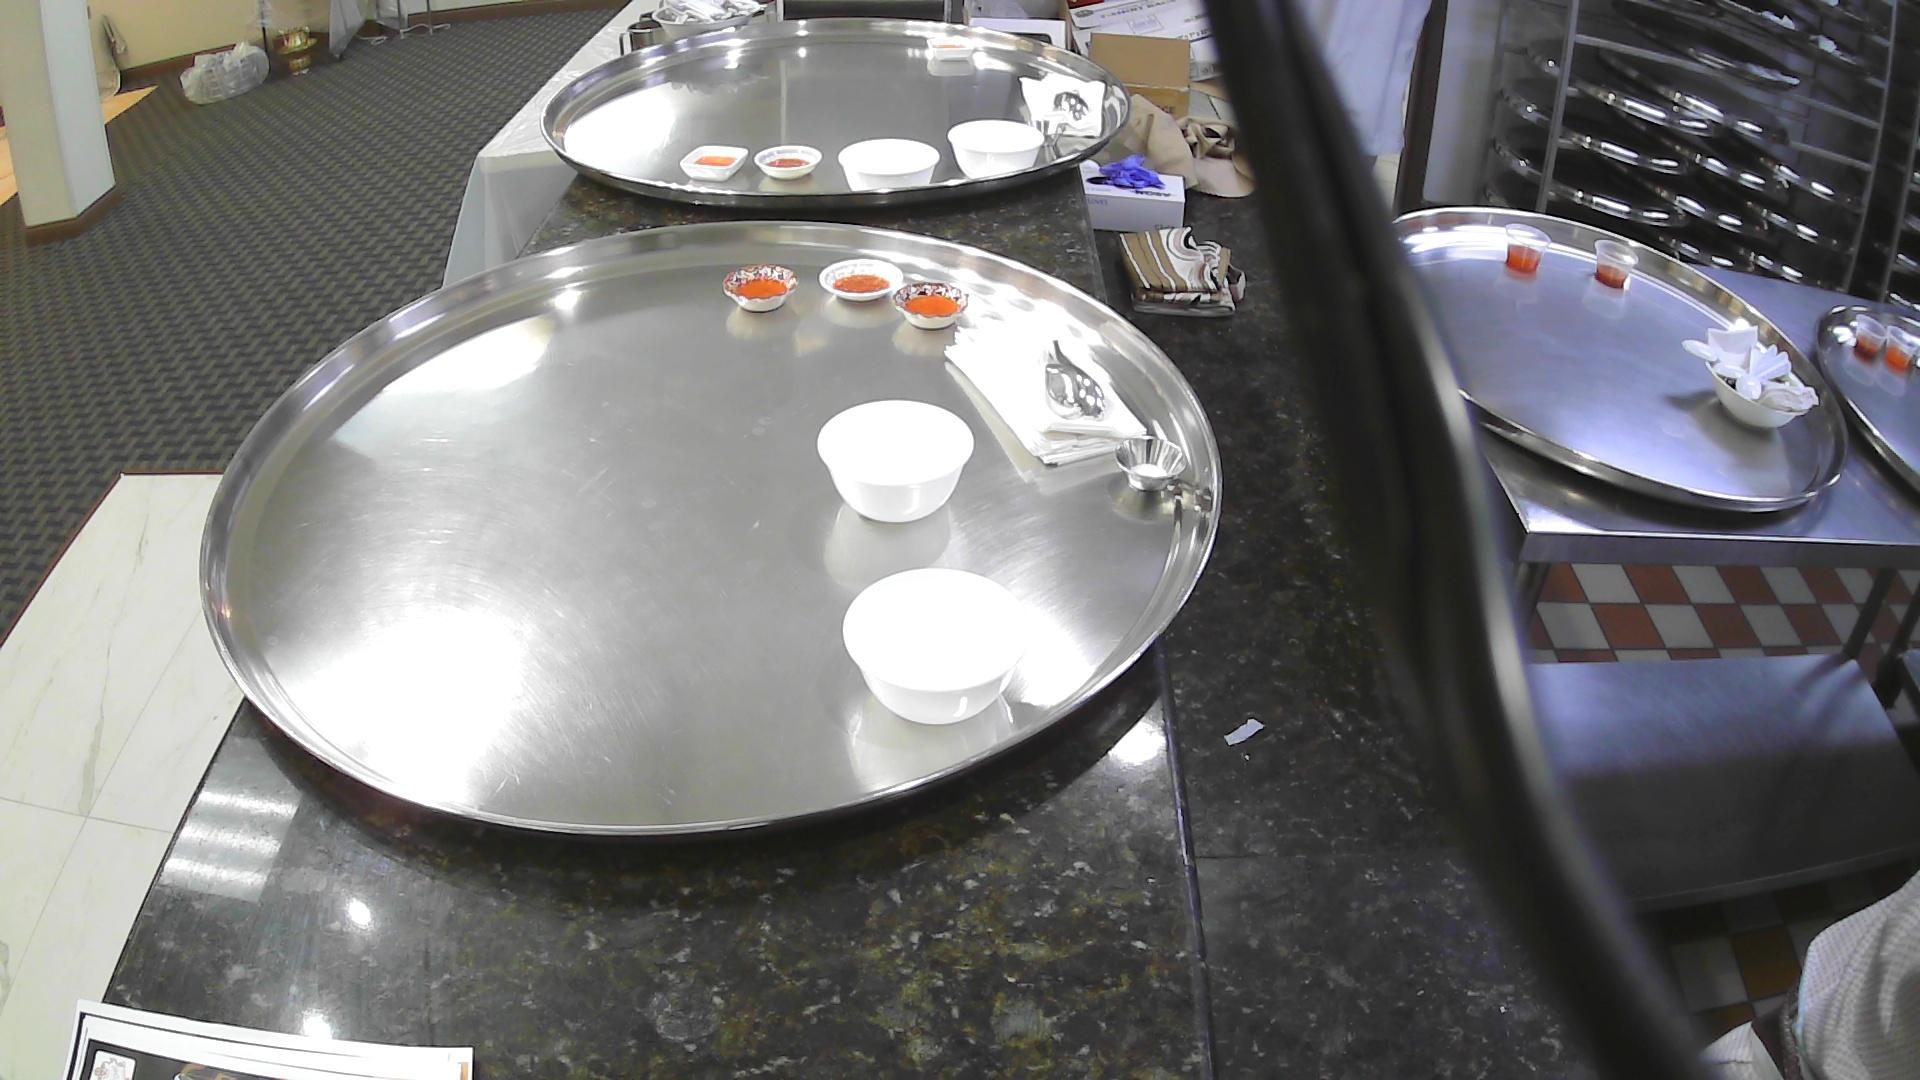thaal: (193, 210, 1229, 857), (1366, 200, 1846, 526), (538, 12, 1133, 218), (1812, 287, 1920, 510)
